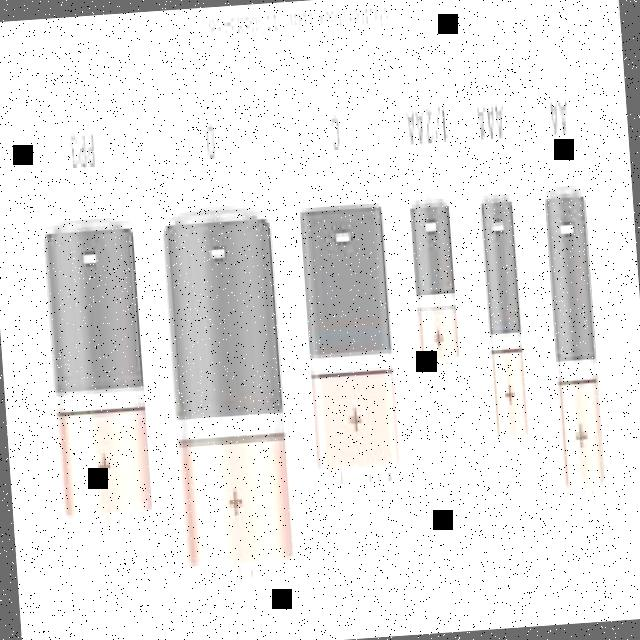battery: (161, 219, 294, 583), (43, 228, 153, 533), (298, 205, 399, 486), (544, 193, 606, 497), (480, 199, 529, 445), (408, 202, 460, 370)
